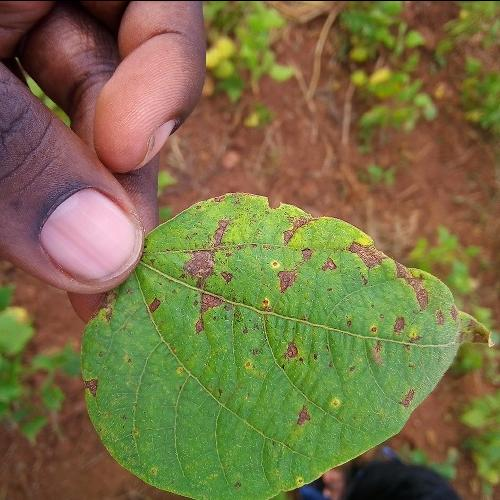hawar: (262, 311, 350, 438), (172, 220, 254, 345), (270, 212, 380, 296), (388, 263, 448, 344), (84, 343, 108, 407), (139, 277, 168, 328)
